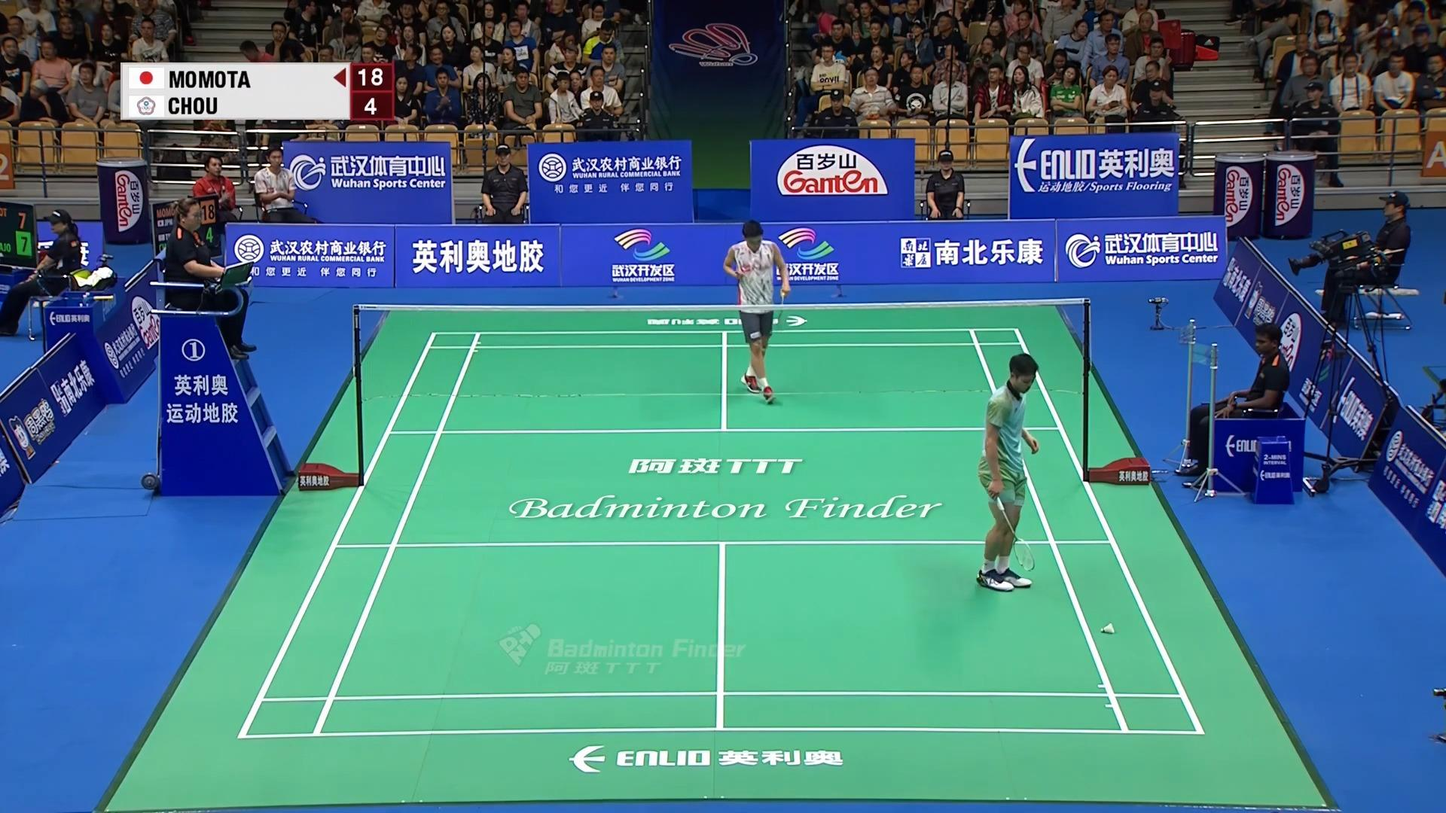shuttlecock: (1100, 622, 1115, 635)
